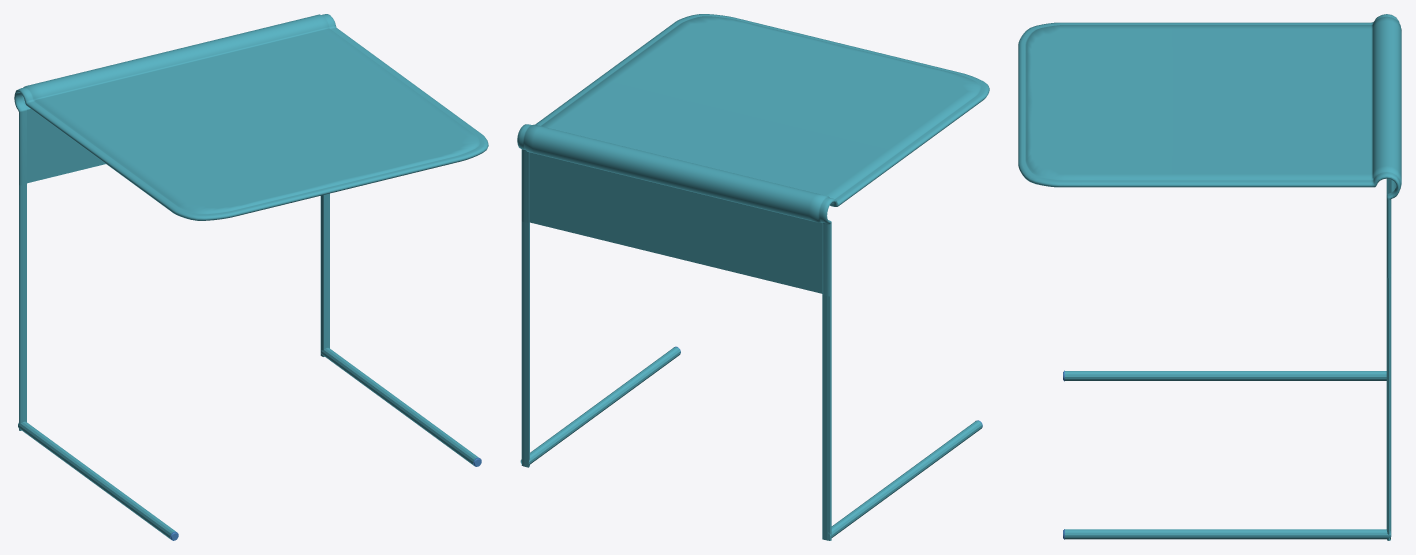
The model's file is table.fbx.
The picture shows the model from 3 angles, left to right: view 1: azimuth 30°, elevation 25°; view 2: azimuth 150°, elevation 25°; view 3: azimuth 270°, elevation 25°; orthographic projection. The views are drawn at different scales.
Parts seen in each view (by area): view 1: table; view 2: table; view 3: table.
Part boxes in pixels (<box>): table: <box>14,14,488,540</box>; table: <box>517,14,989,540</box>; table: <box>1018,14,1401,540</box>.
Bounding box in the file's own units: 54.76 × 57.49 × 54.5.
